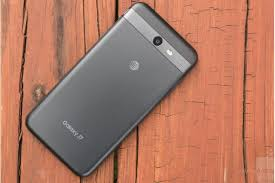samsung: (21, 1, 202, 177)
